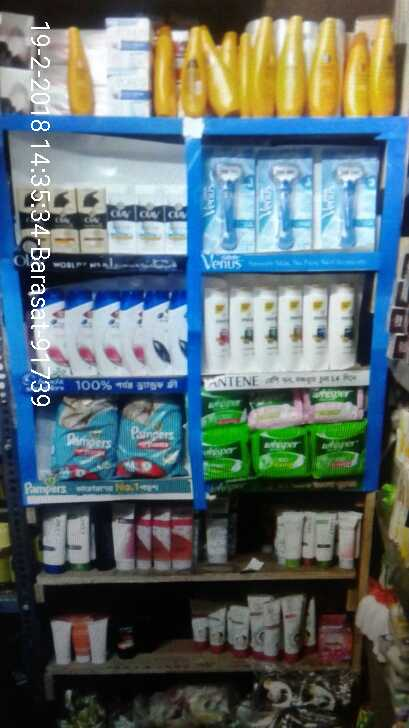venus: (320, 158, 380, 254), (256, 160, 310, 248), (207, 160, 256, 251)
